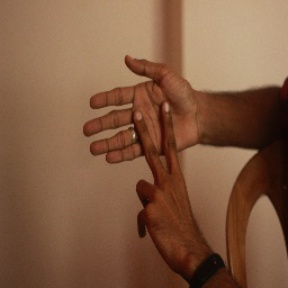N: (80, 50, 212, 221)
